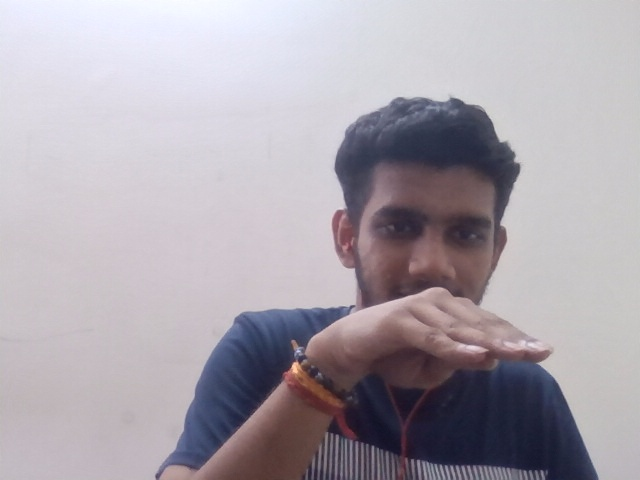no: (292, 284, 559, 391)
